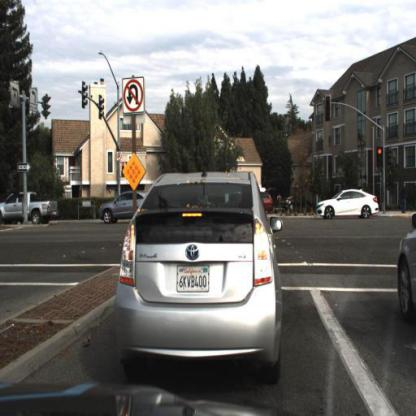car: (116, 172, 284, 390), (393, 211, 416, 318), (317, 189, 382, 222), (1, 192, 61, 225), (98, 190, 150, 224), (264, 184, 282, 219)
pedestrian: (399, 175, 413, 222), (400, 182, 411, 216), (277, 190, 284, 212)
trafficLight: (324, 93, 334, 126)
trafficLight-Red: (375, 143, 387, 171)
